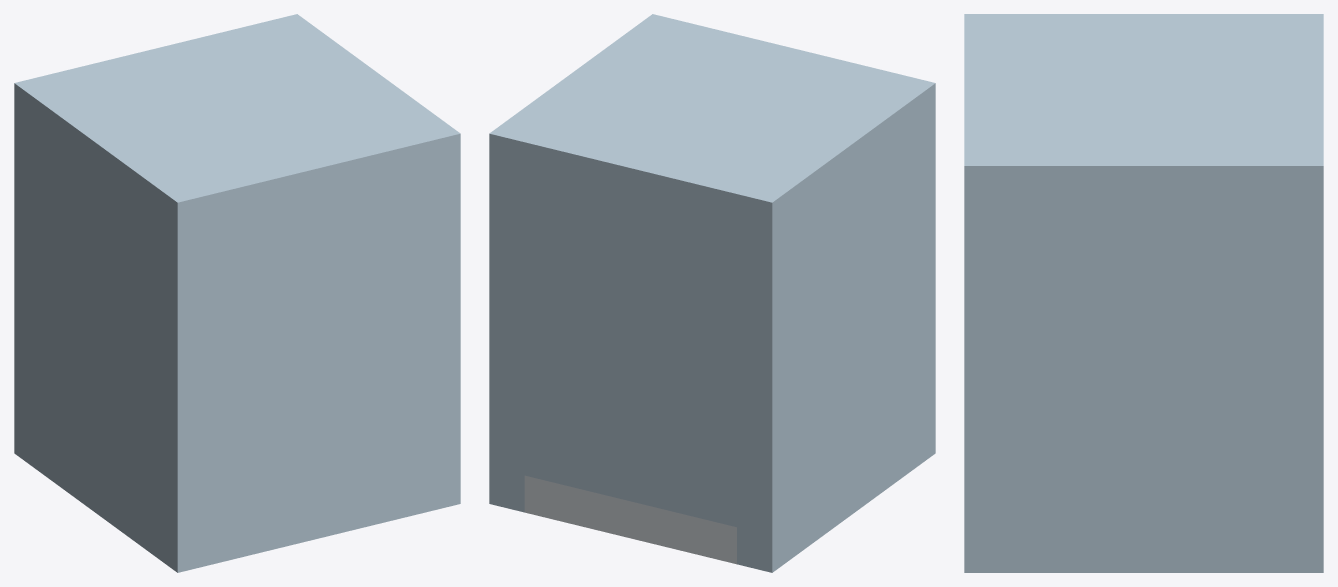
Rendered from ice-niche.glb.
The picture shows the model from 3 angles, left to right: view 1: azimuth 30°, elevation 25°; view 2: azimuth 150°, elevation 25°; view 3: azimuth 270°, elevation 25°; orthographic projection. The views are drawn at different scales.
Visible parts, largest first — view 1: ice-rock_3, ice-rock_1, ice-rock_5, ice-rock_2; view 2: ice-rock_1, ice-rock_5, plug_ice_north, ice-rock_4, ice-rock_2, snow_1; view 3: ice-rock_2, ice-rock_5.
Boxes of the visible parts, <box> form: ice-rock_3: <box>213,179,425,564</box>; ice-rock_1: <box>14,120,212,572</box>; ice-rock_5: <box>14,14,460,239</box>; ice-rock_2: <box>425,170,460,512</box>; ice-rock_1: <box>737,120,935,572</box>; ice-rock_5: <box>489,14,935,239</box>; plug_ice_north: <box>524,253,736,527</box>; ice-rock_4: <box>524,179,736,304</box>; ice-rock_2: <box>489,170,524,512</box>; snow_1: <box>524,475,736,564</box>; ice-rock_2: <box>964,206,1323,572</box>; ice-rock_5: <box>964,14,1323,206</box>.
Size of the model in its own units: 4 by 5 by 4.
